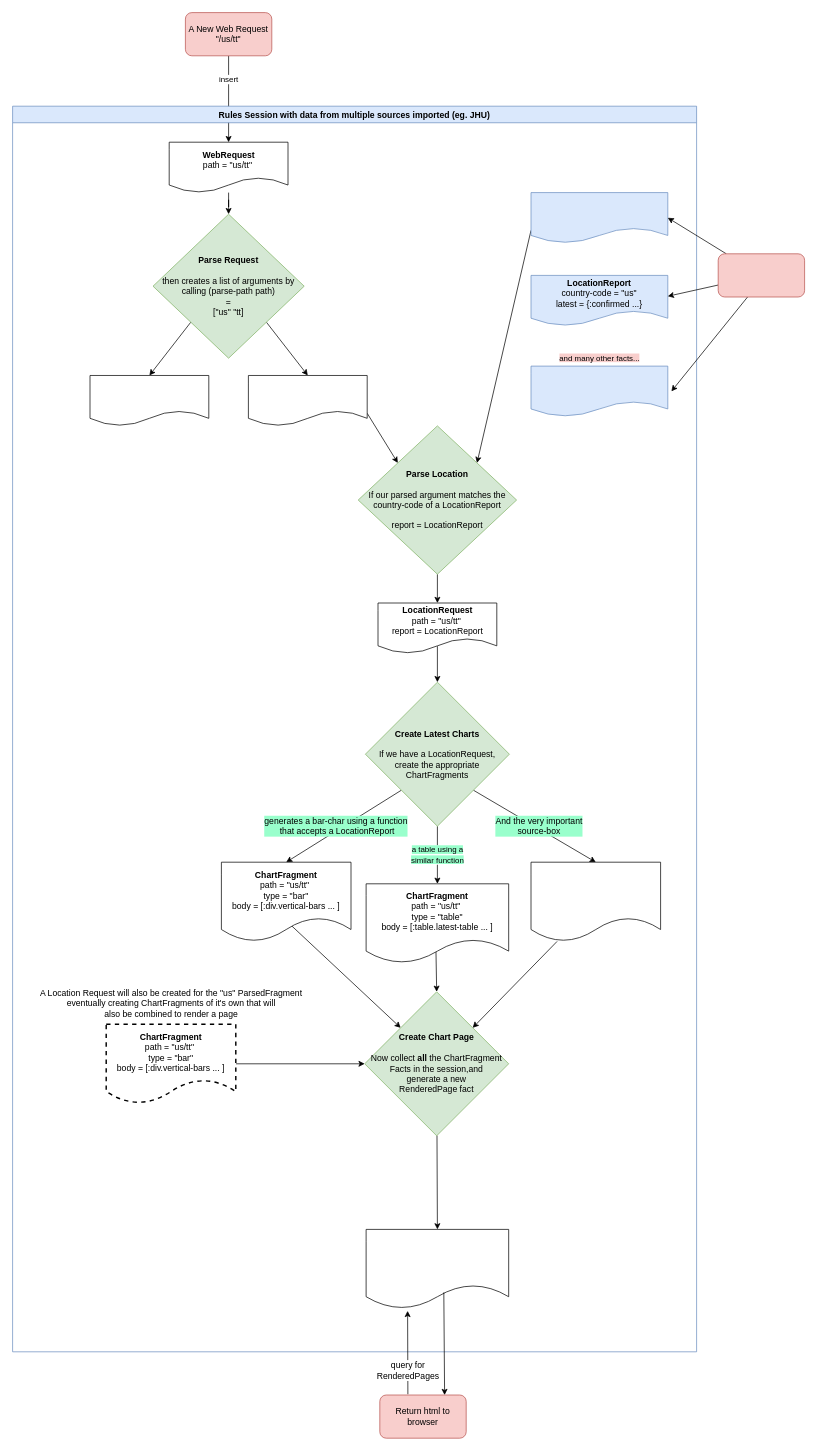
Image size: 817x1451. Some labels were removed from this diagram. Here are the shapes that lost their labels. From the top down, the centre of each, then its label:
the point at 599,217: LocationReport country-code = "tt" latest = {:confirmed ...}
the point at 761,275: Init Session by querying xapix JHU endpoint
the point at 149,400: ParsedRequest path = "us/tt" arg = "us"
the point at 307,400: ParsedRequest path = "us/tt" arg = "tt"
the point at 599,391: LocationReport country-code = "es" latest = {:confirmed ...}
the point at 595,901: ChartFragment path = "us/tt" type = "source" body = [:div.source ... ]
the point at 437,1269: RenderedPage path = "us/tt" html = "<html ... <div class="ver..."
